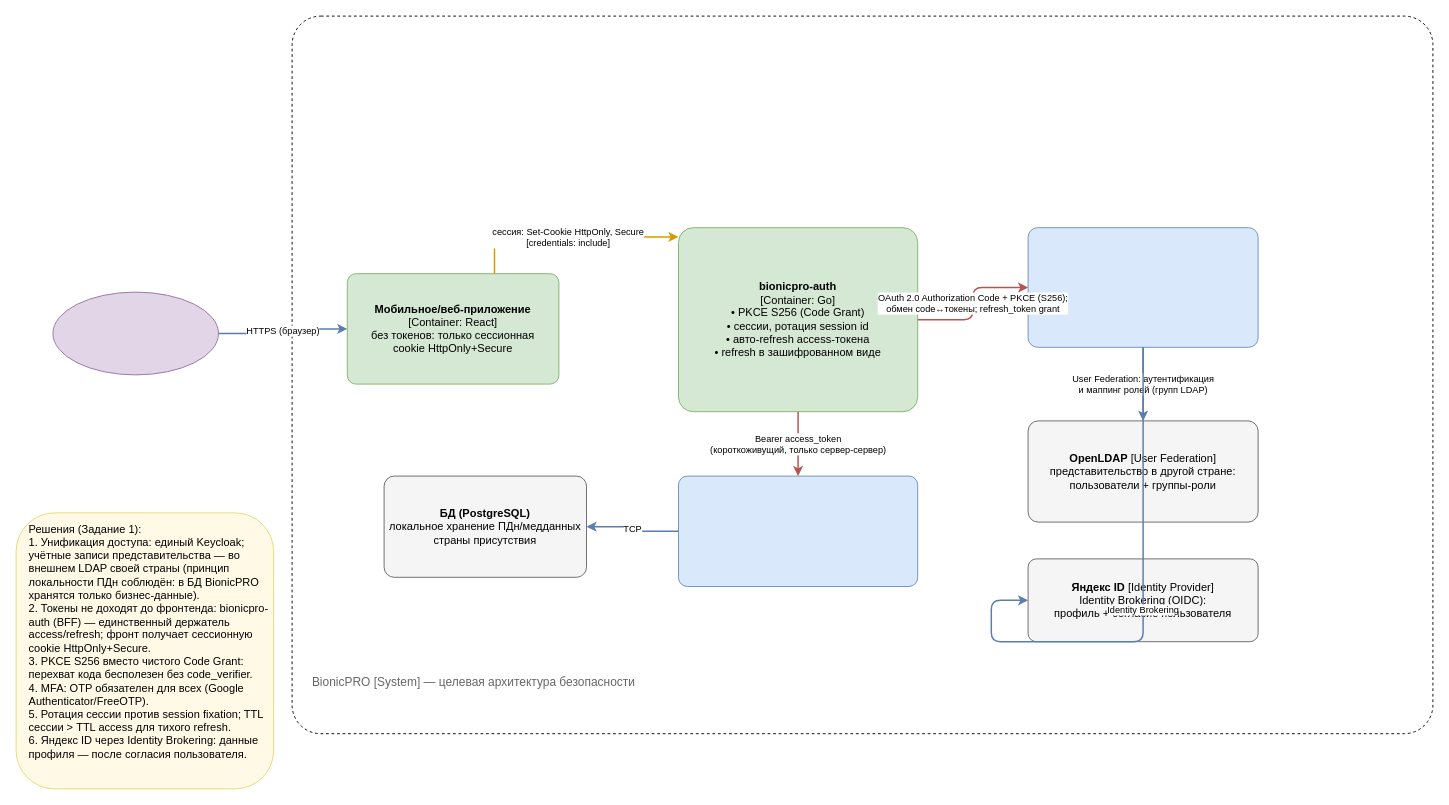
Image size: 1449x805. Some labels were removed from this diagram. Here are the shapes that lost their labels. From the top down, the centre of each, then its label:
At point (1142, 287): "Keycloak [IdP] access ≤ 2 мин, refresh включён, MFA (OTP) обязателен".
At point (135, 333): "Пользователь протеза [Person]".
At point (798, 530): "CRM / сервисы BionicPRO [Container] ресурсы: /reports и др.".
